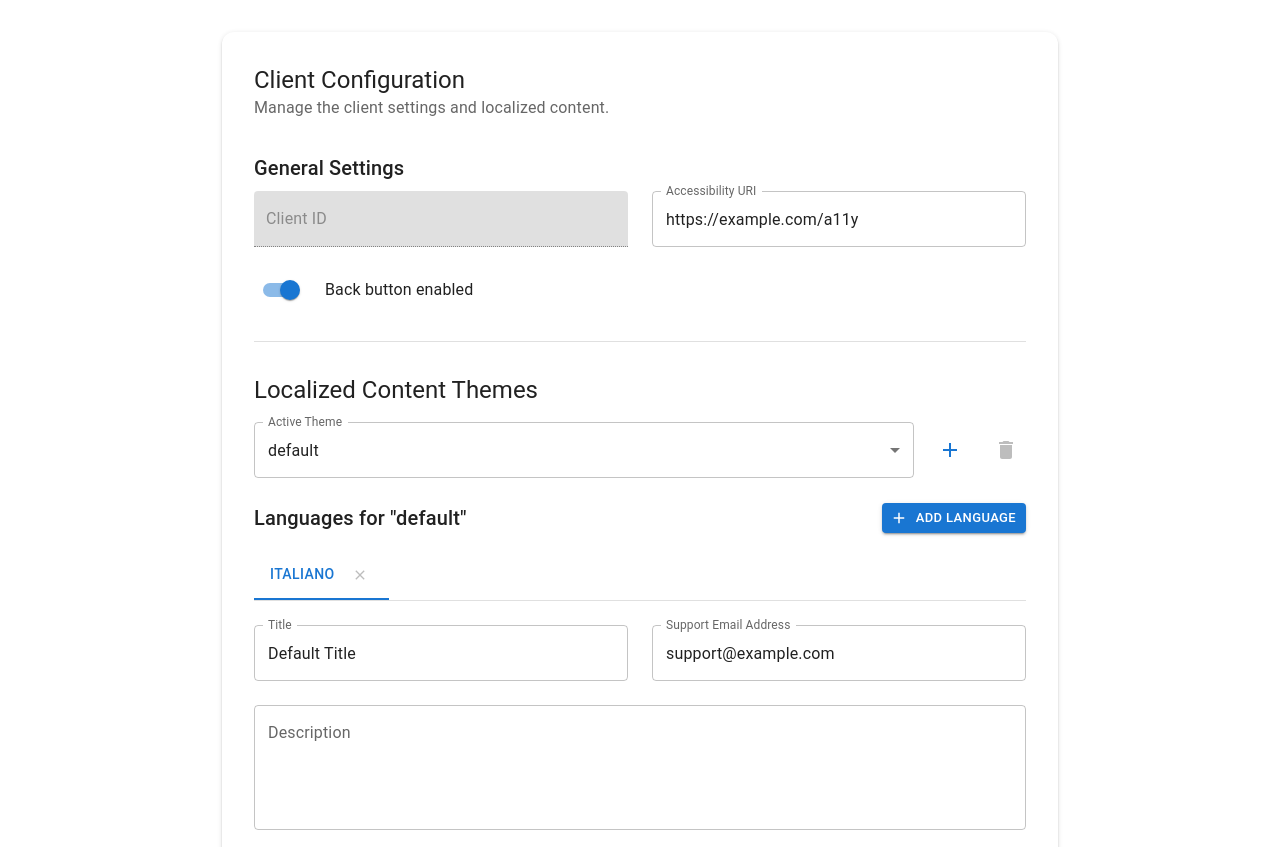
Test: Refactored ReservedAreaForm Component › should allow adding a new theme
Click the "Add New Theme" button
Click the button named "Add New Theme" at (950, 450), box [930,430,970,470]
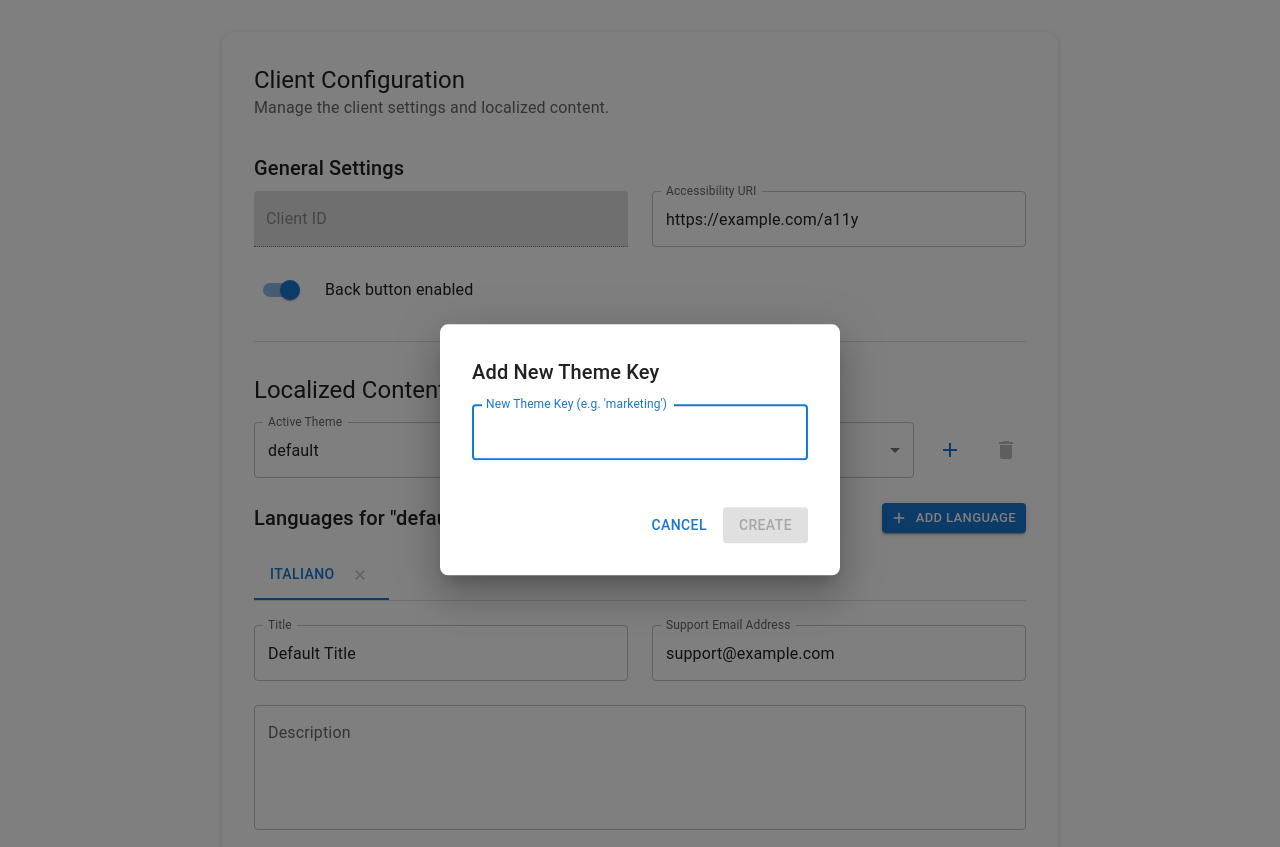
Type a name in the modal's text field
Type "marketing" into the field labelled "New Theme Key (e.g. 'marketing')" at (640, 432), box [472,404,808,460]
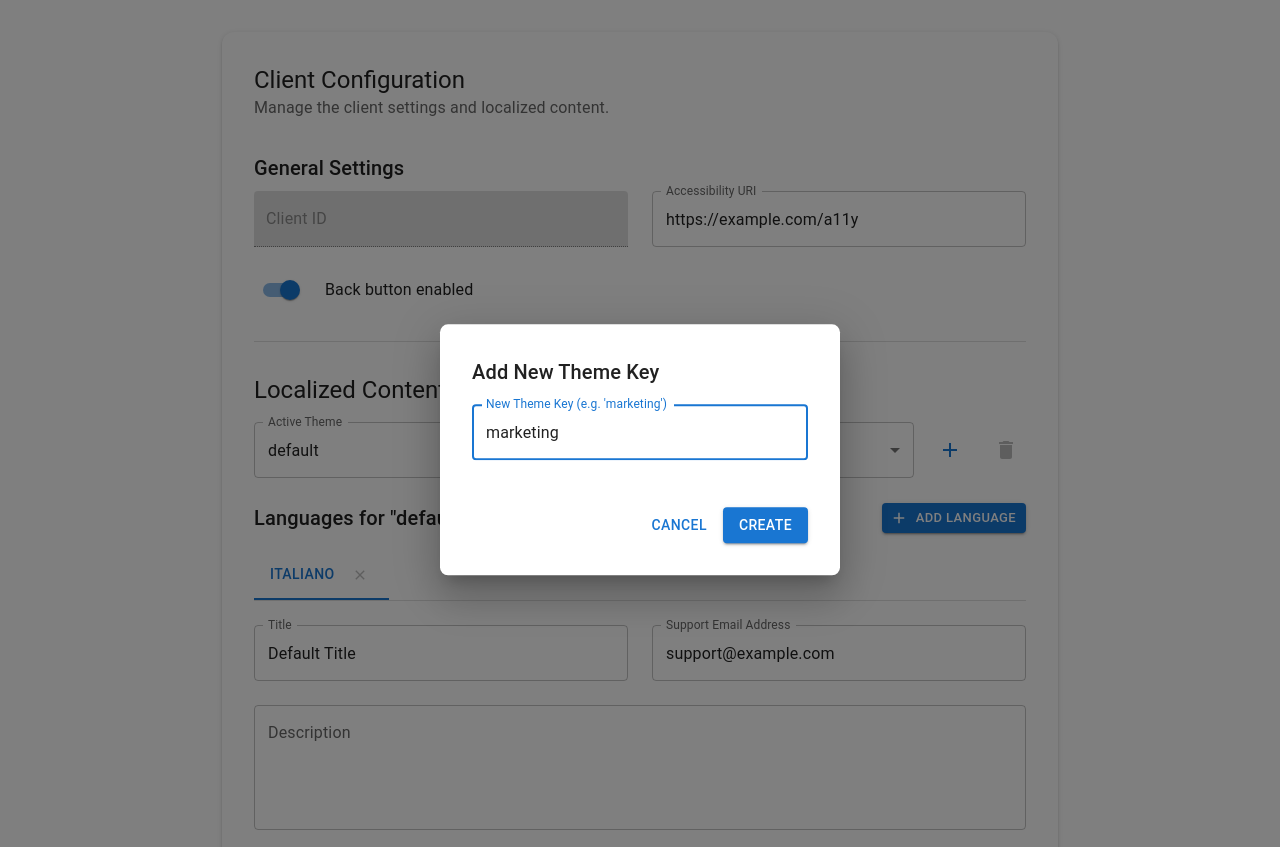
Click the "Create" button
Click the button "Create" at (765, 525), box [723,507,808,544]
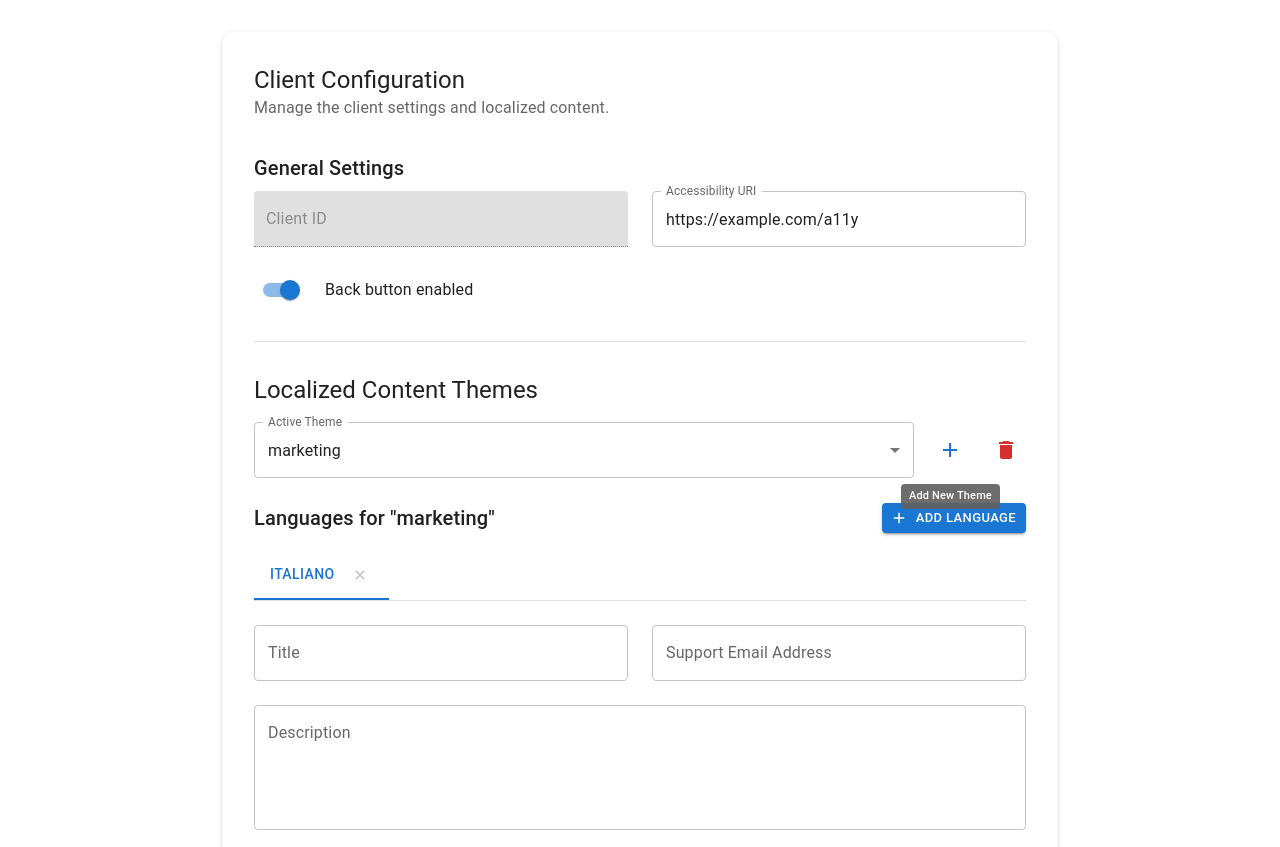
Expected: the tab "Italiano" is shown, [254,550,388,600]
Now the element with test id "theme-select" reads "marketing", box [268,440,341,460]
